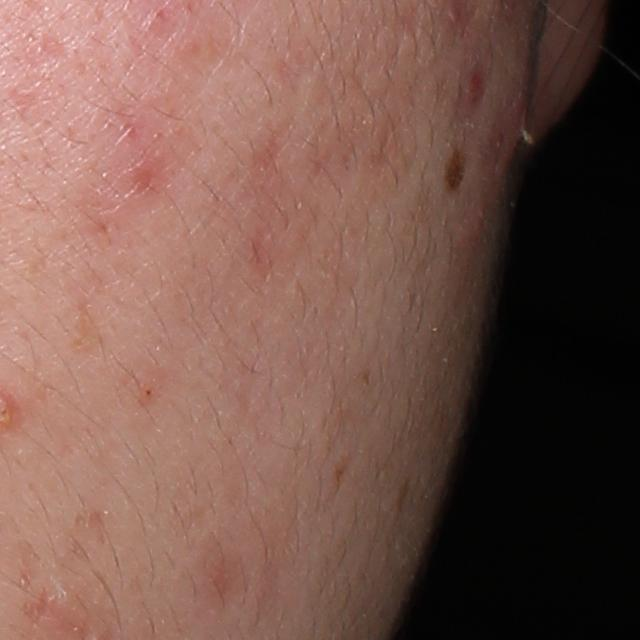nevus: (443, 150, 466, 202)
